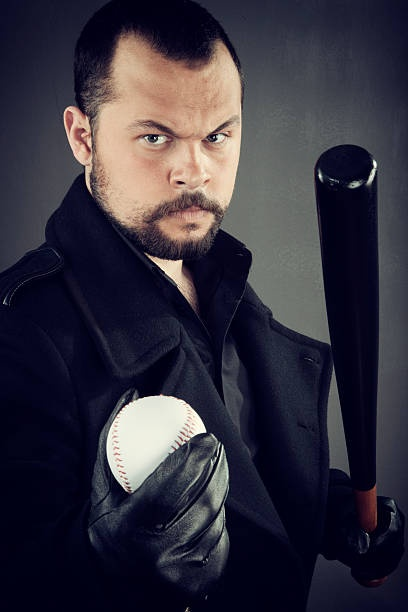bita: (315, 134, 384, 582)
